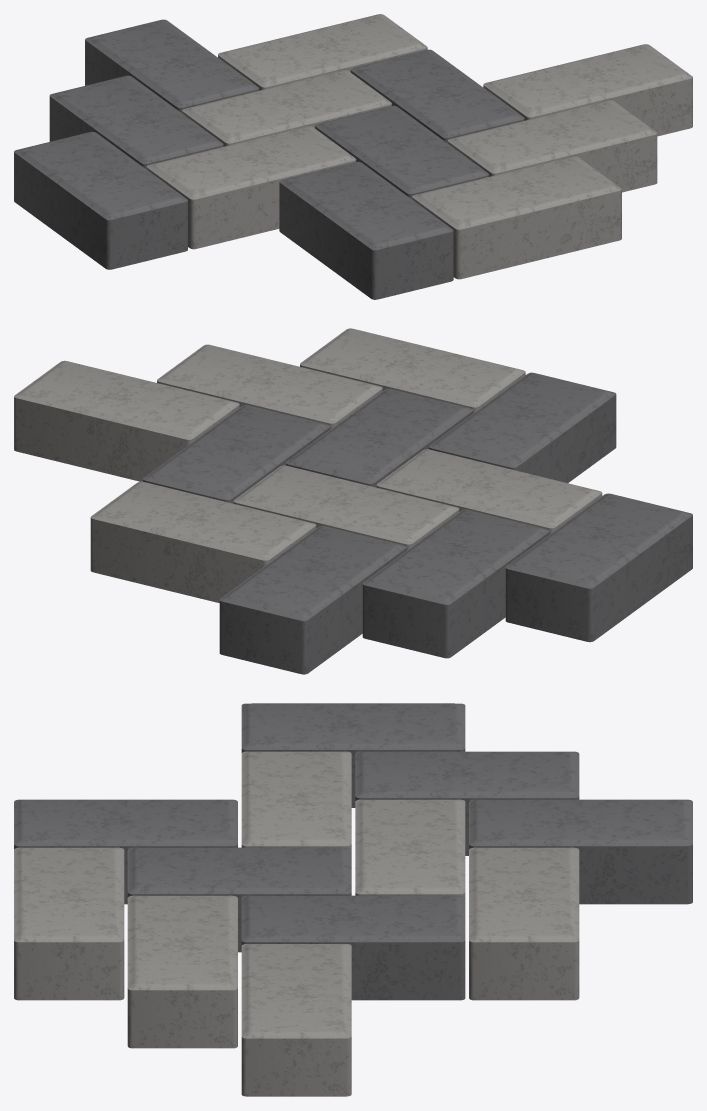
The model's file is herringbone-1.glb.
3 views of the same model, one above another, from view 1: azimuth 30°, elevation 25°; view 2: azimuth 150°, elevation 25°; view 3: azimuth 270°, elevation 25° (orthographic). The views are drawn at different scales.
Visible parts, largest first — view 1: Colonial Classic.022, Colonial Classic.027, Colonial Classic.023, Colonial Classic.024, Colonial Classic.014, Colonial Classic.020, Colonial Classic.025, Colonial Classic.026, Colonial Classic.017, Colonial Classic.021, Colonial Classic.018, Colonial Classic.013; view 2: Colonial Classic.027, Colonial Classic.021, Colonial Classic.020, Colonial Classic.025, Colonial Classic.026, Colonial Classic.022, Colonial Classic.014, Colonial Classic.024, Colonial Classic.023, Colonial Classic.017, Colonial Classic.018, Colonial Classic.013; view 3: Colonial Classic.018, Colonial Classic.026, Colonial Classic.021, Colonial Classic.023, Colonial Classic.014, Colonial Classic.020, Colonial Classic.027, Colonial Classic.013, Colonial Classic.025, Colonial Classic.022, Colonial Classic.024, Colonial Classic.017.
Boxes of the visible parts, left/top/right/bottom form: Colonial Classic.022: left=279, top=162, right=453, bottom=299; Colonial Classic.027: left=14, top=131, right=187, bottom=269; Colonial Classic.023: left=412, top=156, right=621, bottom=279; Colonial Classic.024: left=146, top=126, right=356, bottom=249; Colonial Classic.014: left=447, top=100, right=657, bottom=192; Colonial Classic.020: left=483, top=44, right=692, bottom=136; Colonial Classic.025: left=49, top=75, right=223, bottom=169; Colonial Classic.026: left=85, top=19, right=259, bottom=113; Colonial Classic.017: left=182, top=70, right=391, bottom=146; Colonial Classic.021: left=218, top=14, right=427, bottom=90; Colonial Classic.018: left=350, top=49, right=524, bottom=143; Colonial Classic.013: left=315, top=105, right=488, bottom=199; Colonial Classic.027: left=505, top=493, right=692, bottom=642; Colonial Classic.021: left=90, top=481, right=316, bottom=602; Colonial Classic.020: left=14, top=360, right=239, bottom=481; Colonial Classic.025: left=362, top=509, right=549, bottom=658; Colonial Classic.026: left=219, top=526, right=406, bottom=674; Colonial Classic.022: left=429, top=372, right=616, bottom=482; Colonial Classic.014: left=157, top=344, right=382, bottom=429; Colonial Classic.024: left=376, top=449, right=602, bottom=533; Colonial Classic.023: left=300, top=328, right=525, bottom=413; Colonial Classic.017: left=233, top=465, right=459, bottom=550; Colonial Classic.018: left=143, top=405, right=330, bottom=503; Colonial Classic.013: left=286, top=389, right=473, bottom=487; Colonial Classic.018: left=241, top=895, right=465, bottom=1000; Colonial Classic.026: left=469, top=799, right=692, bottom=904; Colonial Classic.021: left=469, top=847, right=579, bottom=1000; Colonial Classic.023: left=14, top=847, right=124, bottom=1000; Colonial Classic.014: left=127, top=895, right=237, bottom=1048; Colonial Classic.020: left=241, top=944, right=351, bottom=1096; Colonial Classic.027: left=241, top=703, right=465, bottom=807; Colonial Classic.013: left=127, top=847, right=351, bottom=952; Colonial Classic.025: left=355, top=751, right=579, bottom=855; Colonial Classic.022: left=14, top=799, right=237, bottom=904; Colonial Classic.024: left=241, top=751, right=351, bottom=849; Colonial Classic.017: left=355, top=799, right=465, bottom=896.
Size of the model in its own units: 0.708 by 0.0603 by 0.6064.
2 materials, 2 textured.
